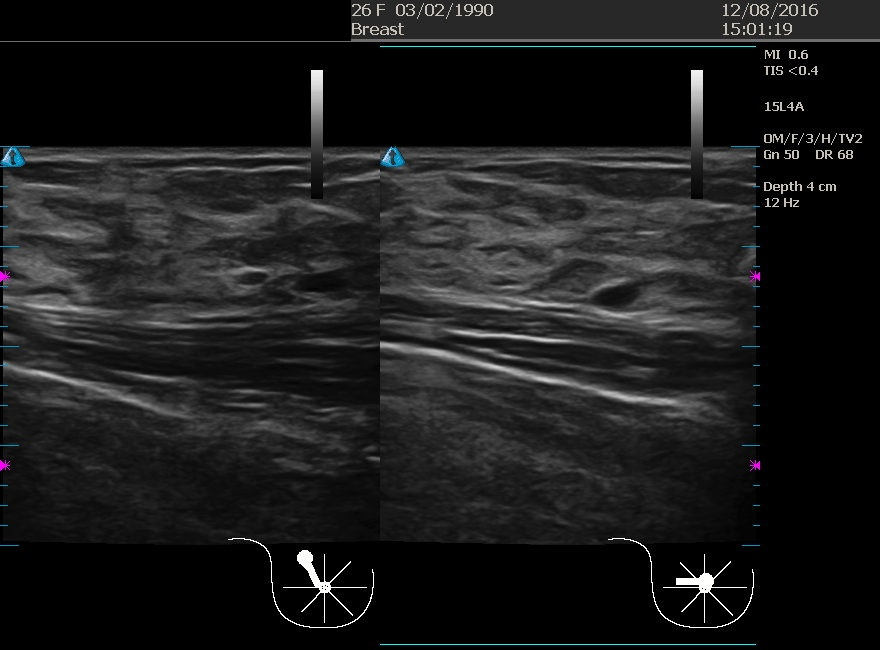BIRADS_2: (175, 207, 376, 407), (539, 262, 739, 462)
